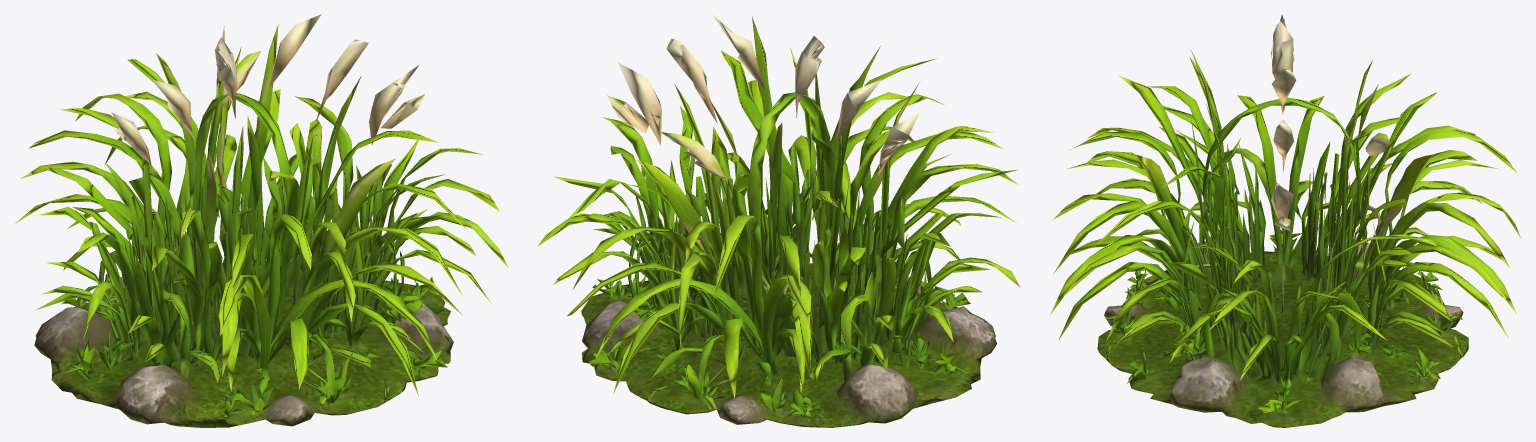
File: semak-1.glb
The picture shows the model from 3 angles, left to right: view 1: azimuth 30°, elevation 25°; view 2: azimuth 150°, elevation 25°; view 3: azimuth 270°, elevation 25°; orthographic projection. The views are drawn at different scales.
Visible parts, largest first — view 1: pohon; view 2: pohon; view 3: pohon.
Part boxes in pixels (x1,y1,x2,y2): pohon: [15, 14, 508, 427]; pohon: [537, 14, 1020, 427]; pohon: [1050, 14, 1520, 427].
Size of the model in its own units: 0.941 by 0.6896 by 0.9683.
1 material, 1 textured.
